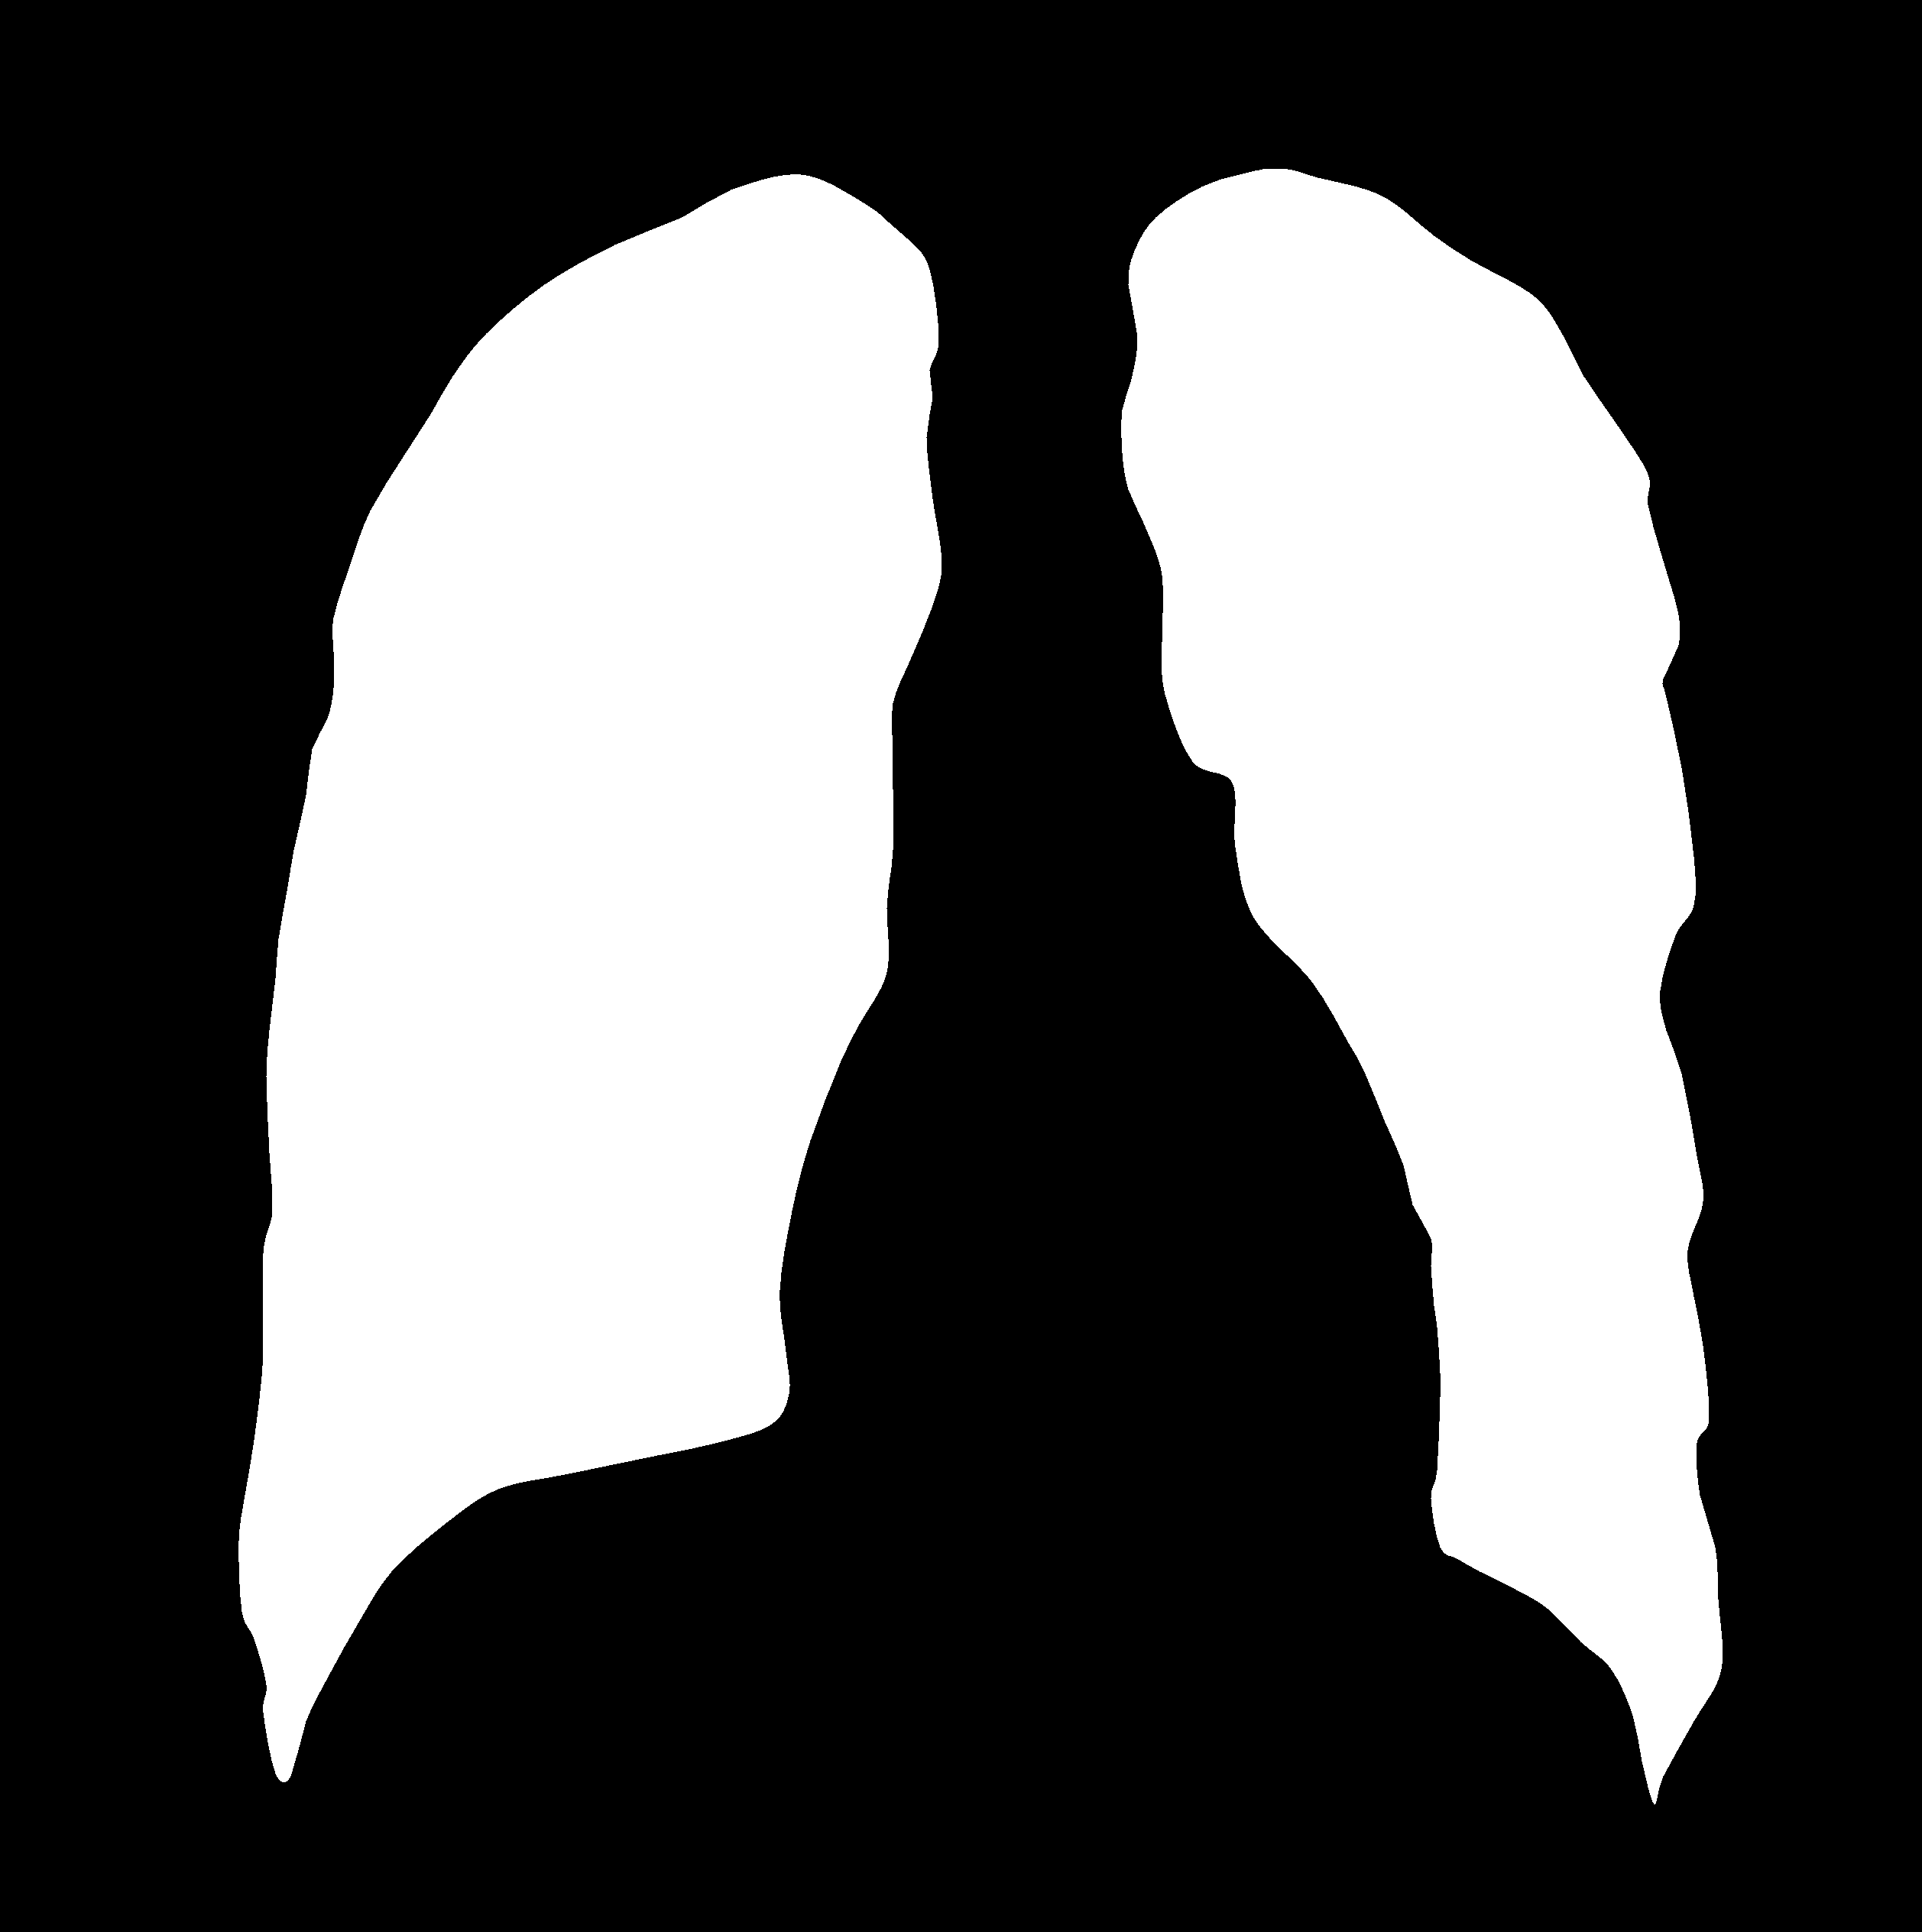heart: (783, 962, 1456, 1622)
left_lung: (241, 174, 940, 1763)
right_lung: (1121, 169, 1725, 1816)
